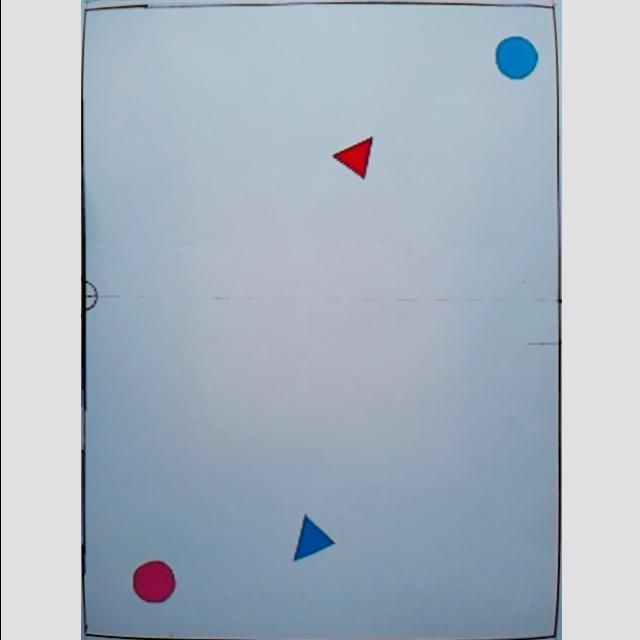blueCircle: (492, 35, 536, 81)
blueTriangle: (287, 514, 333, 562)
pinkCircle: (130, 559, 174, 605)
redTriangle: (328, 134, 378, 180)
